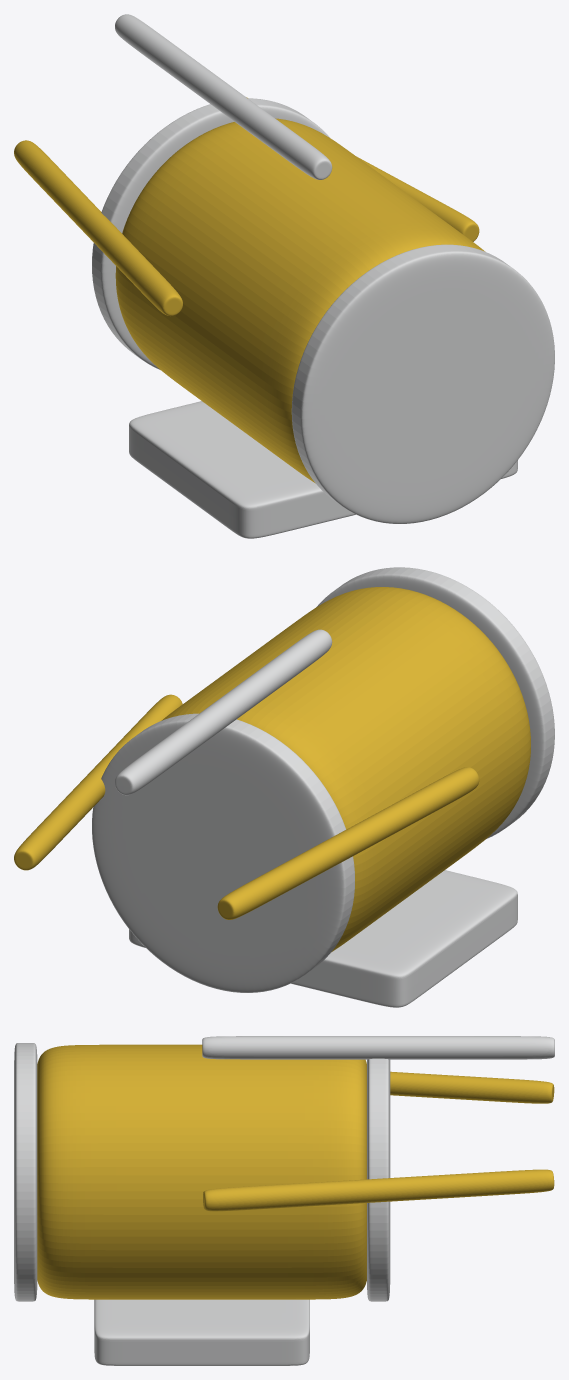
The model's file is floor_tom_drum_sq.glb.
3 renders of one model, top to bottom at view 1: azimuth 30°, elevation 25°; view 2: azimuth 150°, elevation 25°; view 3: azimuth 270°, elevation 25°, orthographic. The views are drawn at different scales.
Parts seen in each view (by area): view 1: superquadric_0, superquadric_1, superquadric_6, superquadric_2, superquadric_5, superquadric_3, superquadric_4; view 2: superquadric_0, superquadric_2, superquadric_6, superquadric_1, superquadric_3, superquadric_5, superquadric_4; view 3: superquadric_0, superquadric_6, superquadric_4, superquadric_5, superquadric_1, superquadric_2, superquadric_3.
Boxes of the visible parts, <box> form: superquadric_0: <box>115,118,485,483</box>; superquadric_1: <box>291,244,554,523</box>; superquadric_6: <box>129,401,517,538</box>; superquadric_2: <box>92,98,329,369</box>; superquadric_5: <box>115,14,332,179</box>; superquadric_3: <box>14,140,182,315</box>; superquadric_4: <box>246,97,479,241</box>; superquadric_0: <box>161,587,530,952</box>; superquadric_2: <box>92,713,354,992</box>; superquadric_6: <box>129,870,517,1007</box>; superquadric_1: <box>317,567,554,838</box>; superquadric_3: <box>217,767,479,919</box>; superquadric_5: <box>115,629,332,795</box>; superquadric_4: <box>14,694,182,870</box>; superquadric_0: <box>37,1044,366,1299</box>; superquadric_6: <box>94,1299,309,1365</box>; superquadric_4: <box>203,1169,554,1211</box>; superquadric_5: <box>202,1036,554,1059</box>; superquadric_1: <box>14,1043,37,1301</box>; superquadric_2: <box>367,1058,390,1301</box>; superquadric_3: <box>390,1071,554,1103</box>.
Size of the model in its own units: 0.5983 by 0.5525 by 1.
